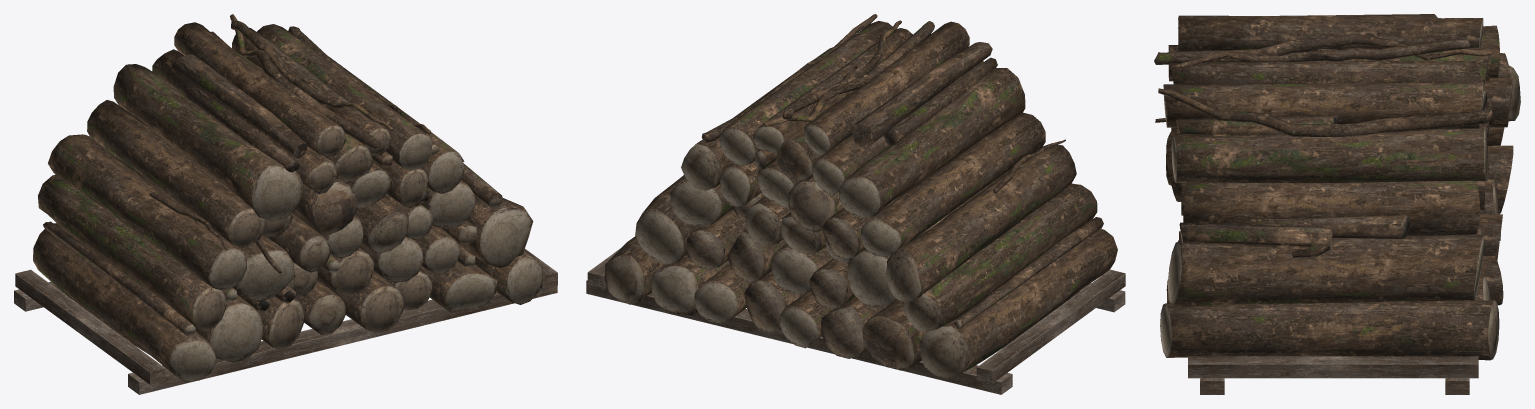
The model's file is LogPileBig.fbx.
3 views of the same model, side by side, from view 1: azimuth 30°, elevation 25°; view 2: azimuth 150°, elevation 25°; view 3: azimuth 270°, elevation 25° (orthographic). The views are drawn at different scales.
Visible parts, largest first — view 1: SM_LogPile_Big01.mo; view 2: SM_LogPile_Big01.mo; view 3: SM_LogPile_Big01.mo.
Part boxes in pixels (x1,y1,x2,y2): SM_LogPile_Big01.mo: (14, 14, 557, 394); SM_LogPile_Big01.mo: (586, 14, 1125, 394); SM_LogPile_Big01.mo: (1154, 14, 1520, 394).
Size of the model in its own units: 245 by 130 by 172.
